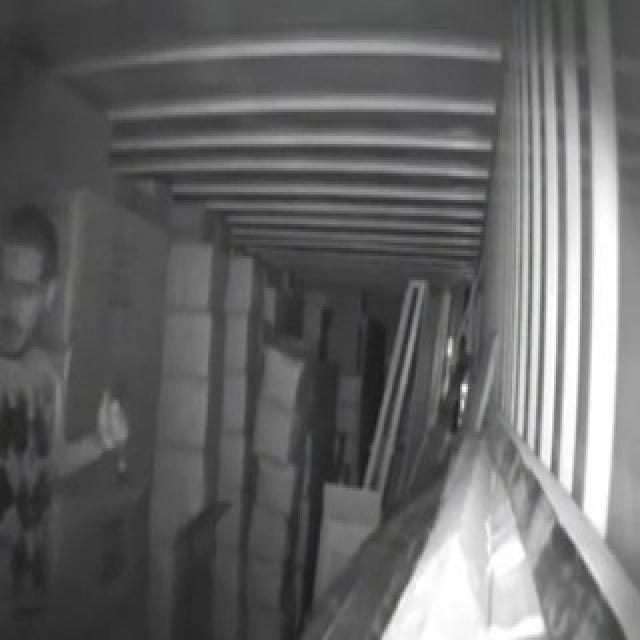thief: (0, 224, 140, 640)
